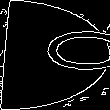O_W: (4, 32, 106, 78)
